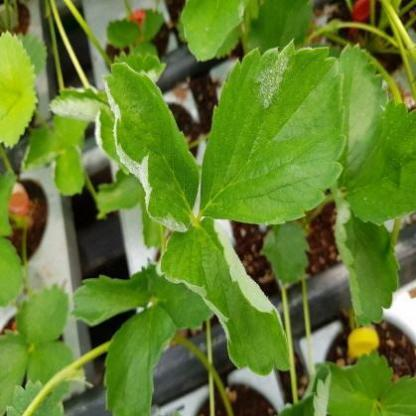Strawberry_Powdery_Mildew_Leaf: (198, 35, 348, 226), (159, 217, 292, 376), (103, 60, 200, 234), (180, 0, 261, 63), (274, 363, 334, 415), (94, 107, 130, 175), (49, 87, 111, 121)
